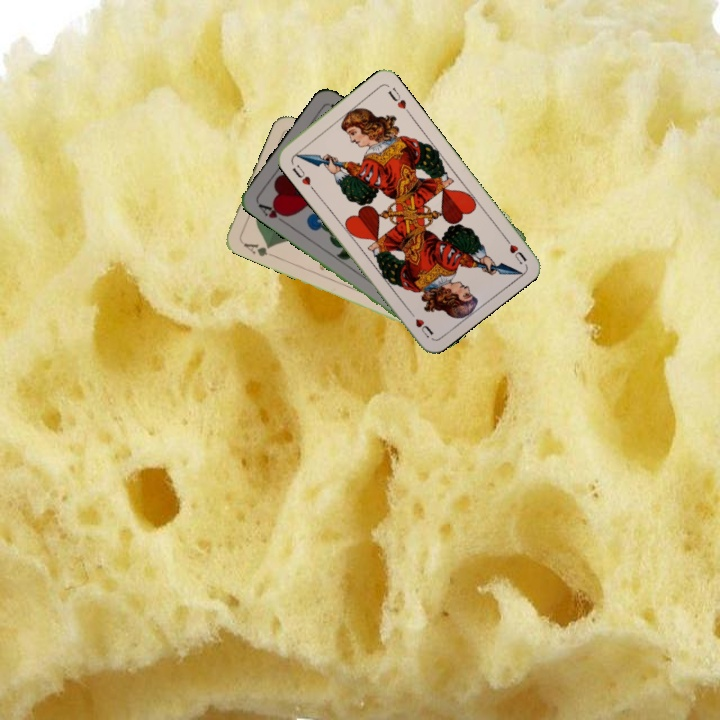GA: (238, 237, 277, 259)
HA: (254, 199, 291, 227)
HU: (499, 231, 529, 267), (288, 160, 313, 188)
